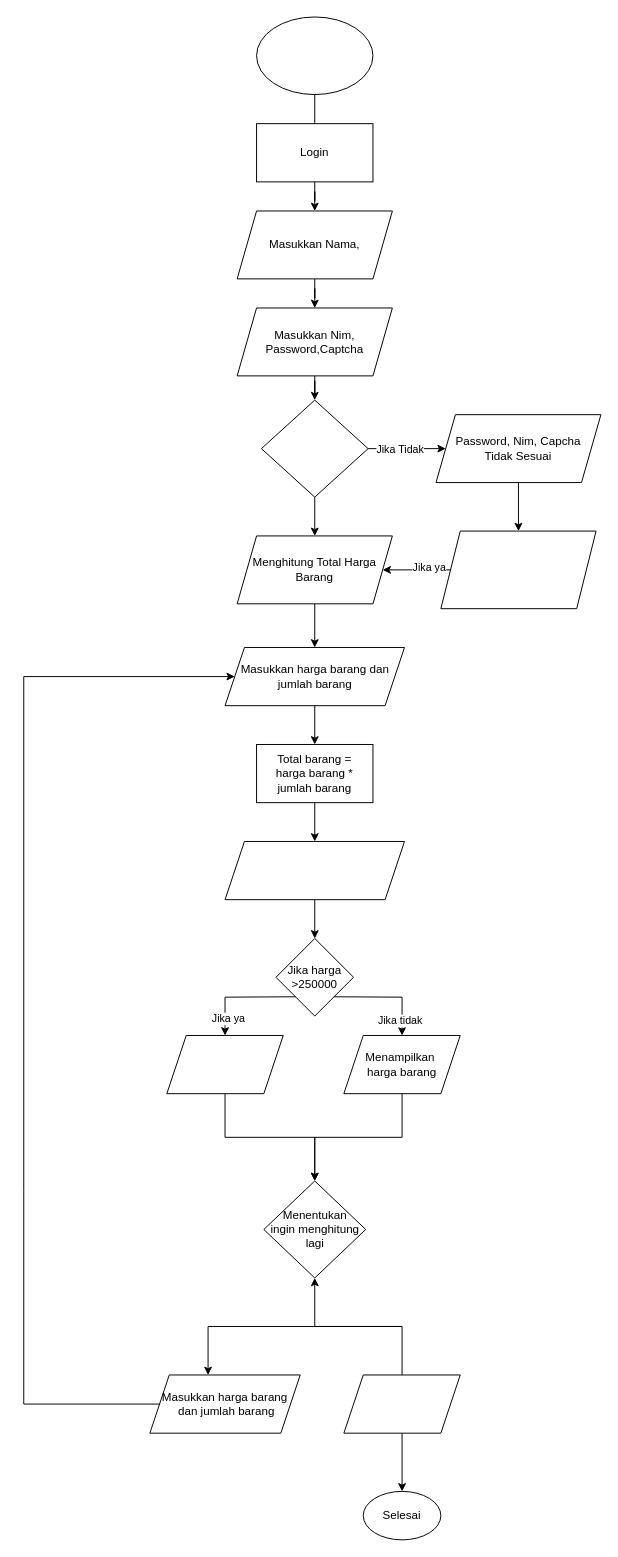
The diagram is 618 pixels wide and 1557 high, and some of its shapes have lost their labels. Each missing label, with the centre of its shape:
Apakah sudah sesuai?: point (314, 448)
Login Berhasil: point (518, 569)
Menampilkan harga setelah diskon: point (224, 1064)
Menjumlahkan total belanjaan: point (314, 870)
Mulai: point (314, 55)
Terimakasih: point (401, 1403)
